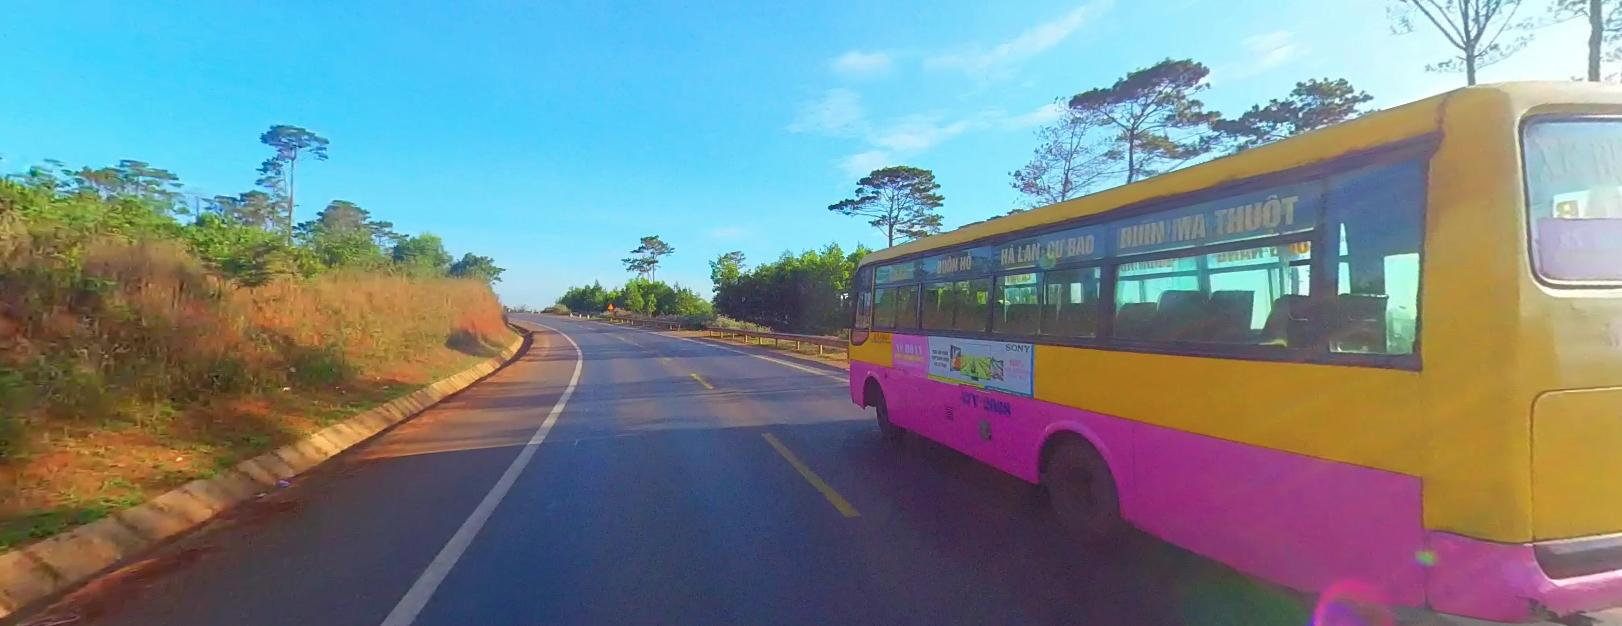Nguy hiem: (607, 301, 614, 307), (606, 301, 613, 307)
